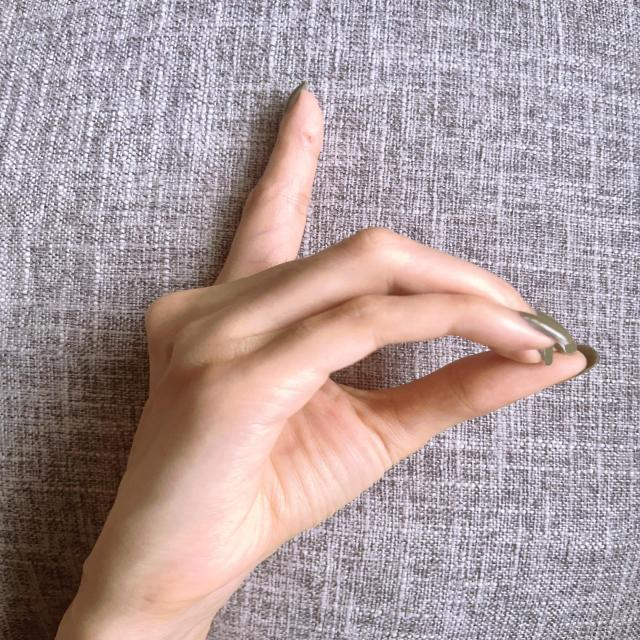D: (98, 79, 600, 578)
